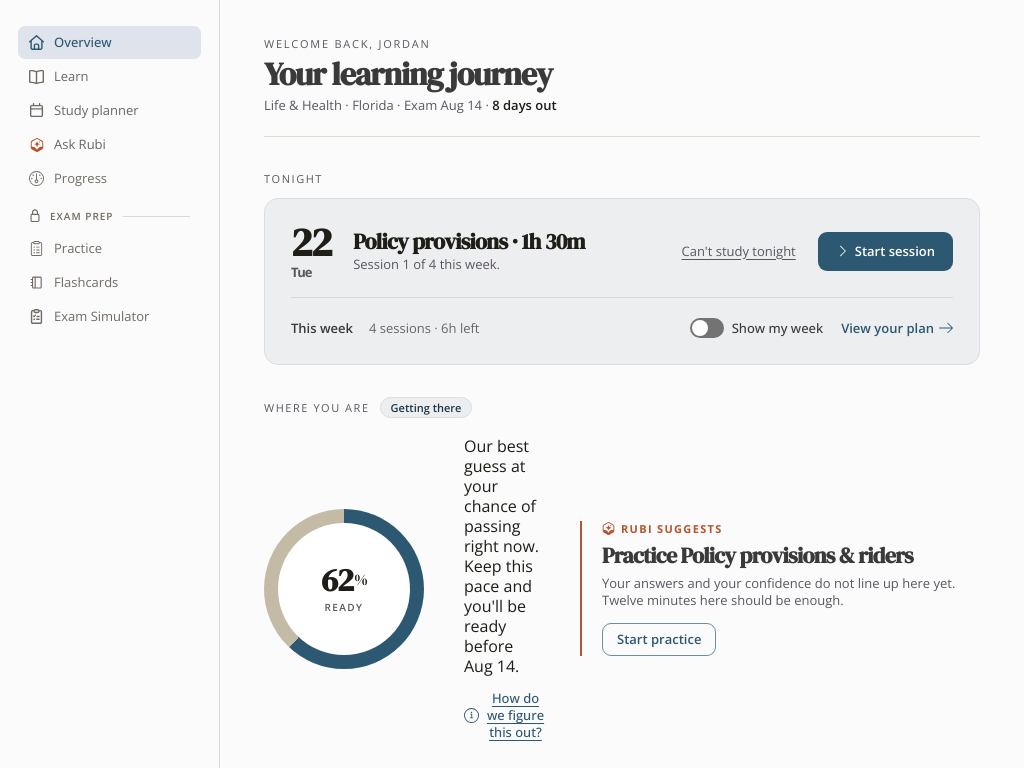
Test: the Compass rail is Anjani’s on Hybrid › a locked row explains itself on the first tap and opens the Exam prep dialog on the second
The image size is (1024, 768).
Step 1. Click the button "Flashcards" → [110, 282], box 18,266 -> 201,299
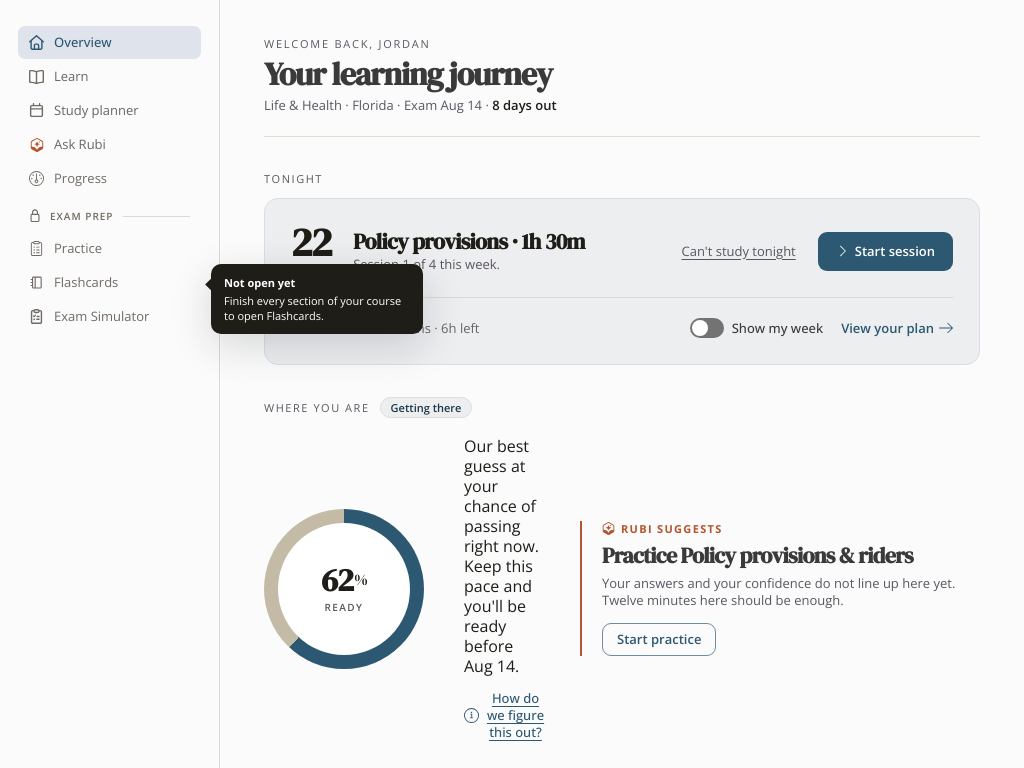
Step 2. Click the button "Flashcards" → [110, 282], box 18,266 -> 201,299
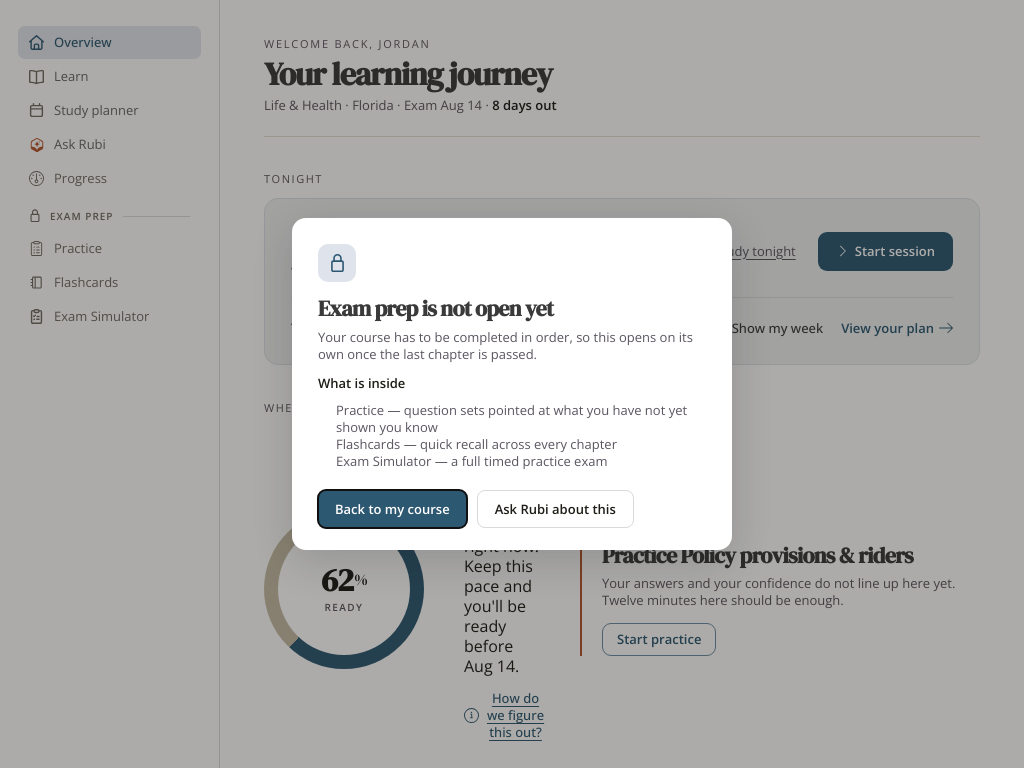
Expected: the dialog "Exam prep is not open yet" is shown, 292,218 -> 732,550
Step 3. Click the button "Back to my course" → [392, 509], box 318,490 -> 467,528
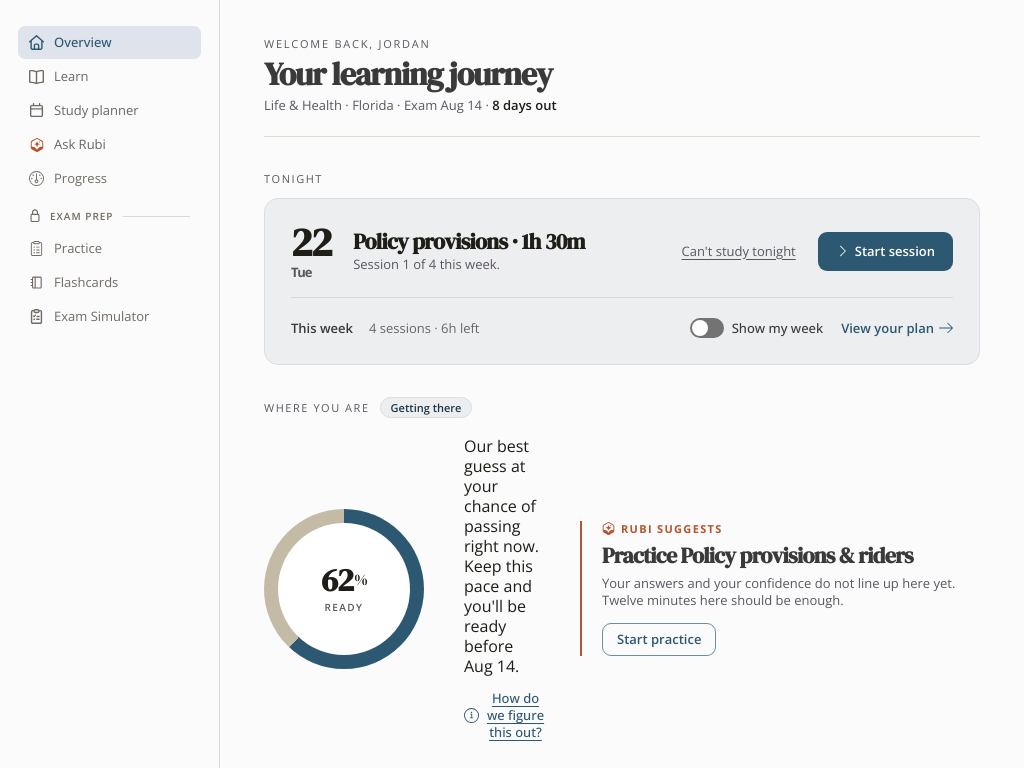
Expected: the dialog is gone
